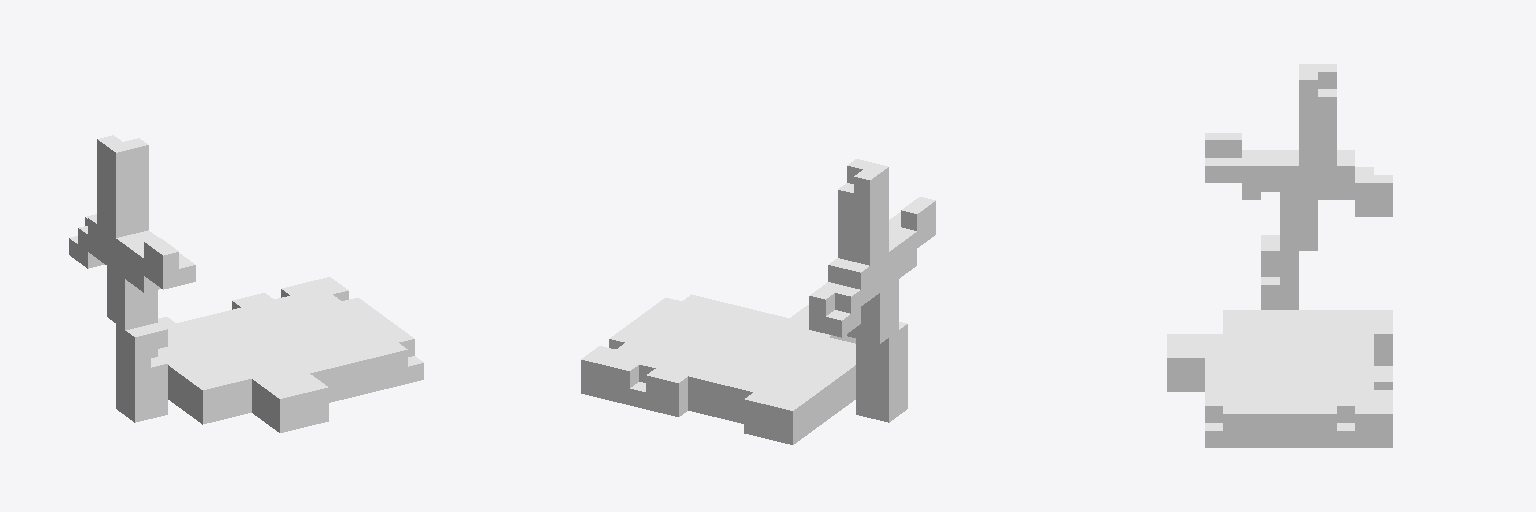
The model's file is SM-5-Tomb3.obj.
3 views of the same model, side by side, from view 1: azimuth 30°, elevation 25°; view 2: azimuth 150°, elevation 25°; view 3: azimuth 270°, elevation 25° (orthographic).
Parts seen in each view (by area): view 1: Tomb3; view 2: Tomb3; view 3: Tomb3.
Part boxes in pixels (x1,y1,x2,y2): Tomb3: (69,135,423,432); Tomb3: (581,159,935,444); Tomb3: (1167,64,1392,447).
Bounding box in the file's own units: 1.6 × 1.5 × 1.2.